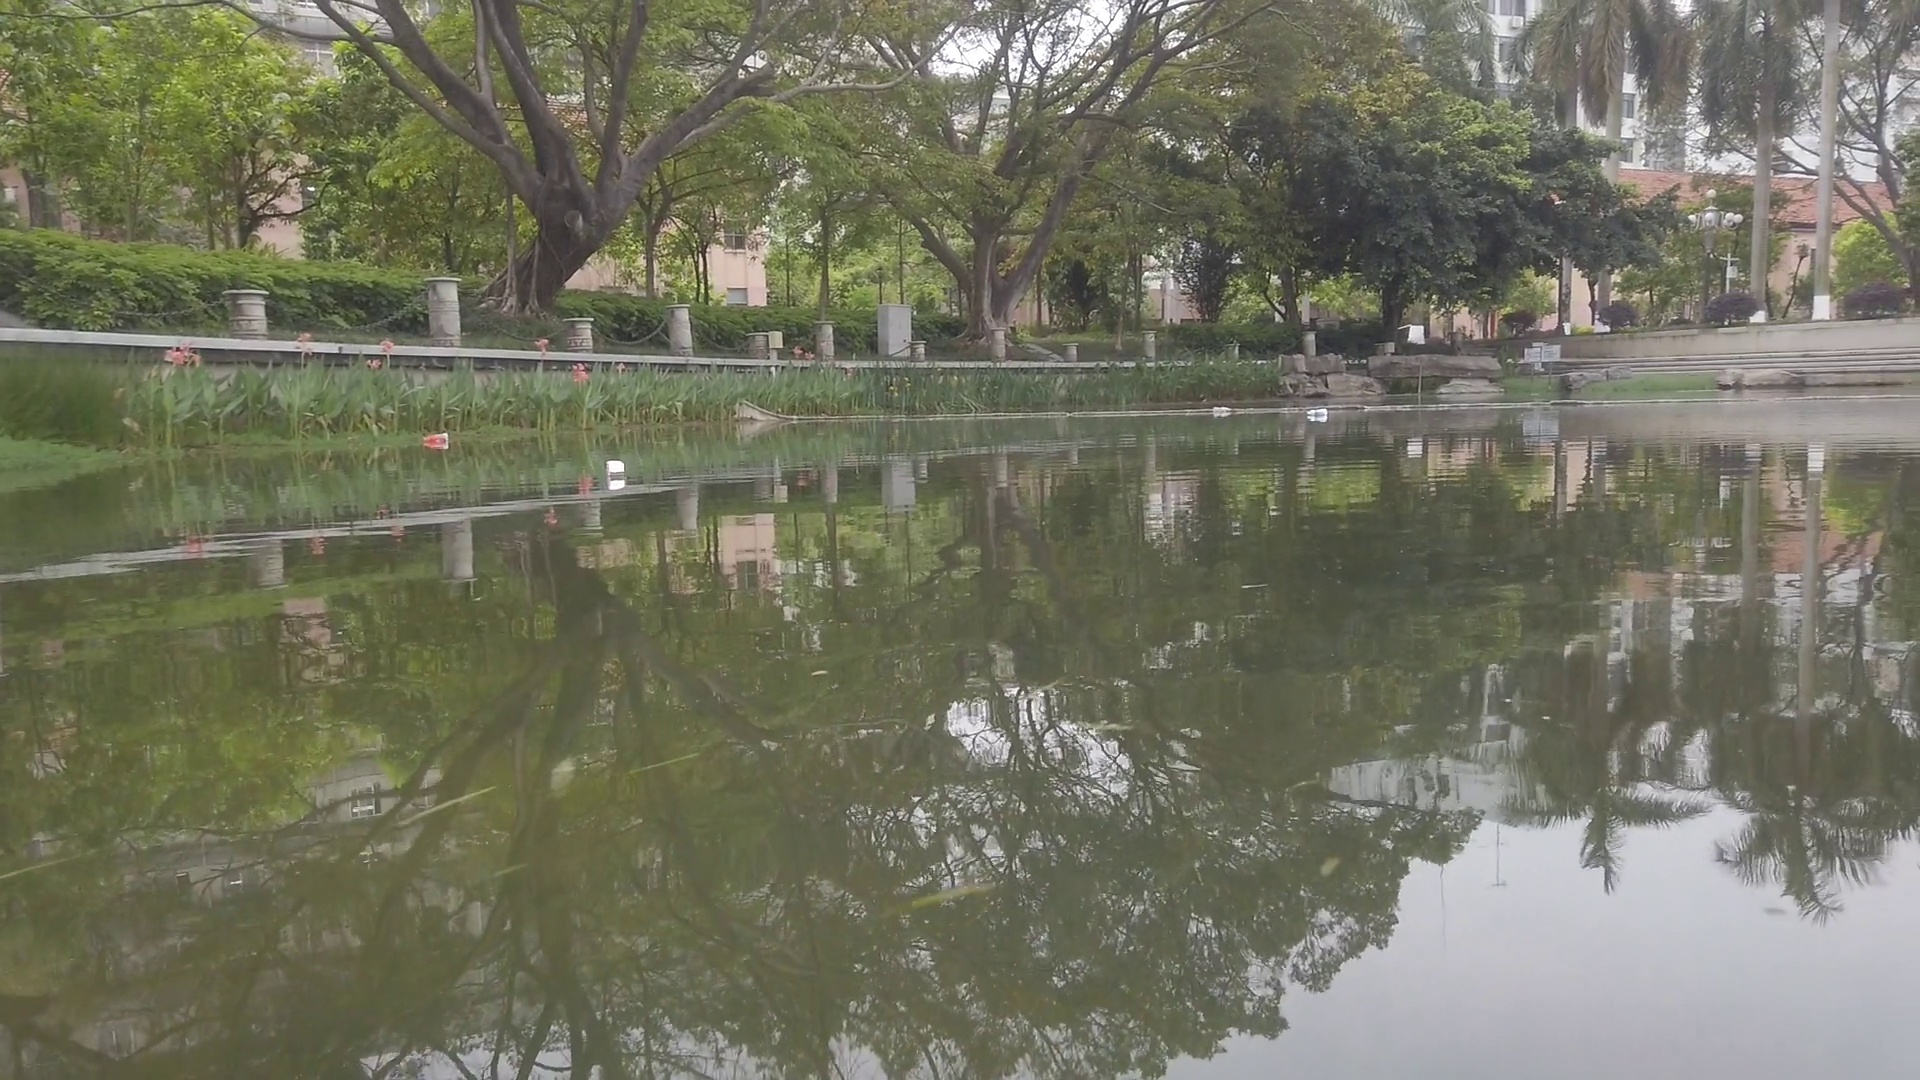bottle: (419, 434, 448, 447), (1215, 405, 1233, 415), (1307, 409, 1328, 418)
carton: (608, 459, 625, 477)
